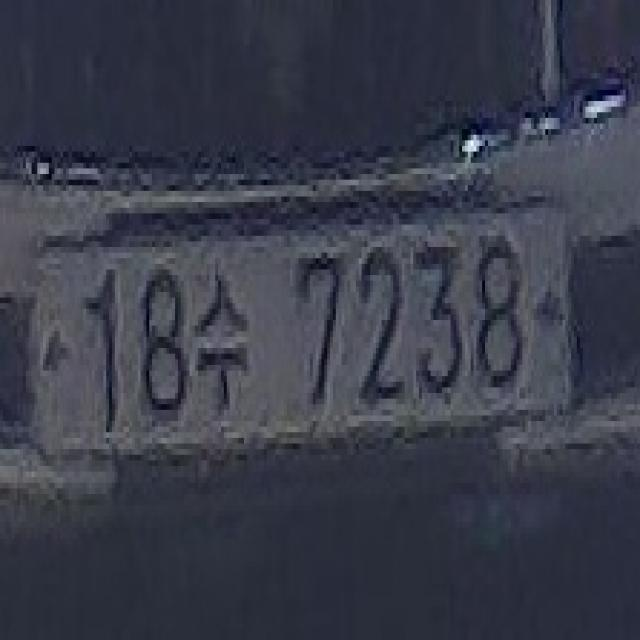1: (83, 253, 129, 449)
2: (350, 241, 408, 421)
3: (410, 236, 468, 410)
7: (293, 241, 350, 421)
8: (471, 225, 528, 404), (138, 247, 186, 438)
license_plate: (23, 180, 585, 494)
su: (190, 264, 256, 432)
